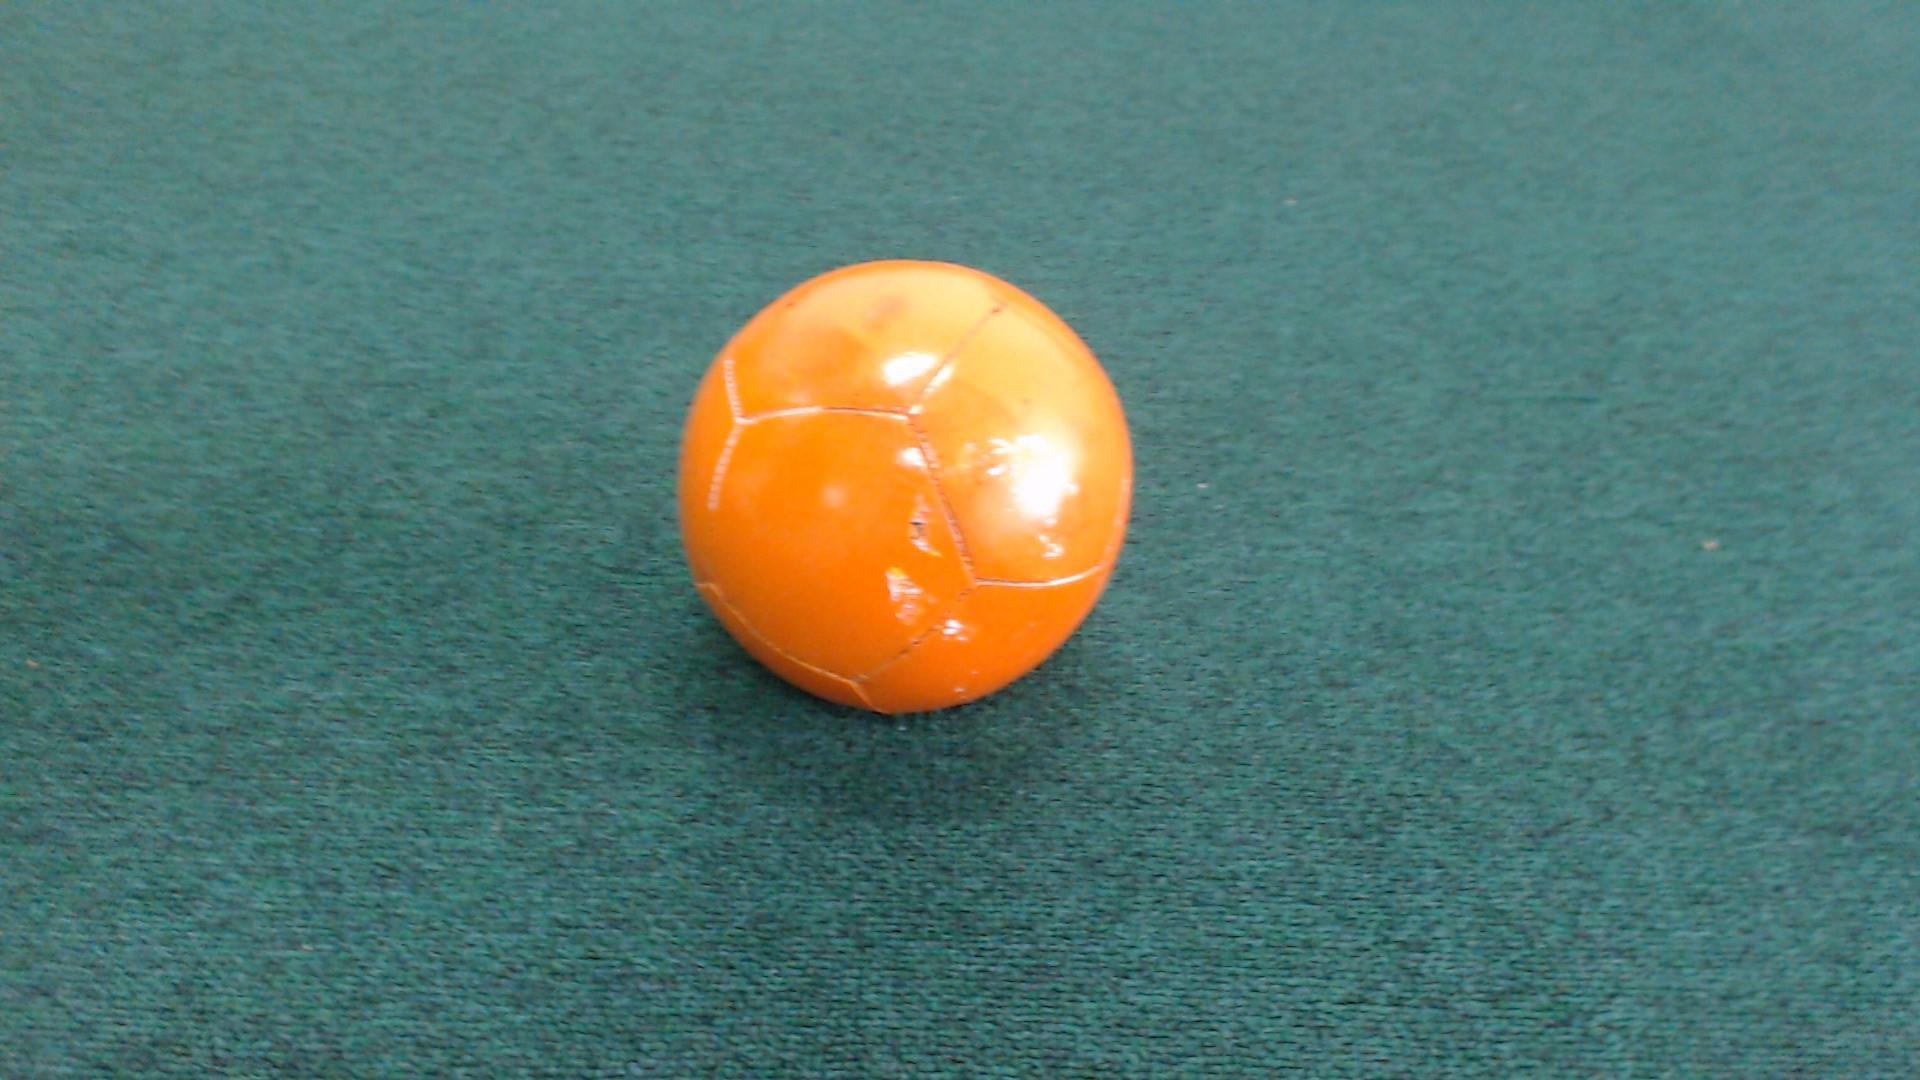bola: (625, 236, 1170, 724)
